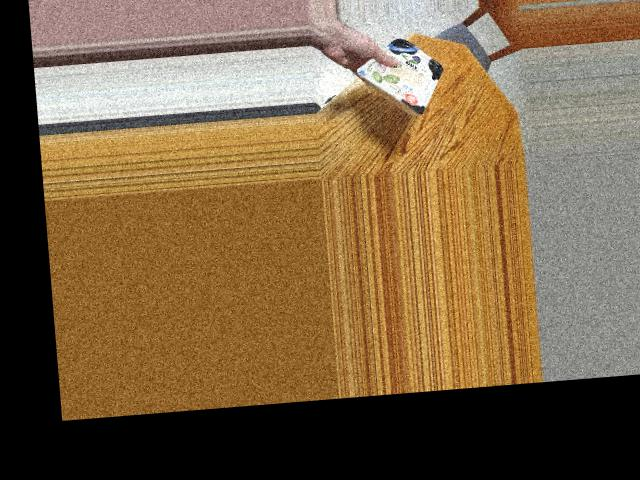cheese: (366, 43, 447, 113)
